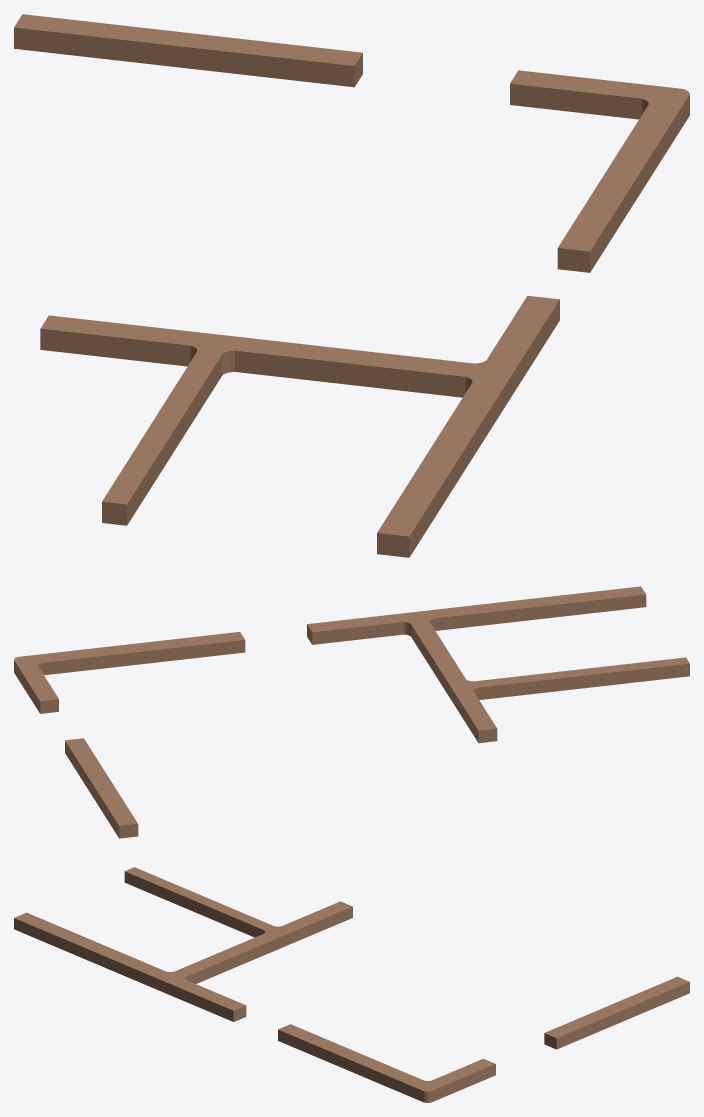
The model's file is Parquet_Single_Mesh.fbx.
The picture shows the model from 3 angles, top to bottom: view 1: azimuth 30°, elevation 25°; view 2: azimuth 150°, elevation 25°; view 3: azimuth 270°, elevation 25°; orthographic projection. The views are drawn at different scales.
Parts seen in each view (by area): view 1: Parquet_Single_Mesh; view 2: Parquet_Single_Mesh; view 3: Parquet_Single_Mesh.
Part boxes in pixels (x1,y1,x2,y2): Parquet_Single_Mesh: [14, 14, 689, 557]; Parquet_Single_Mesh: [14, 586, 689, 838]; Parquet_Single_Mesh: [14, 867, 689, 1102].
Bounding box in the file's own units: 23.53 × 18.49 × 0.4356.
